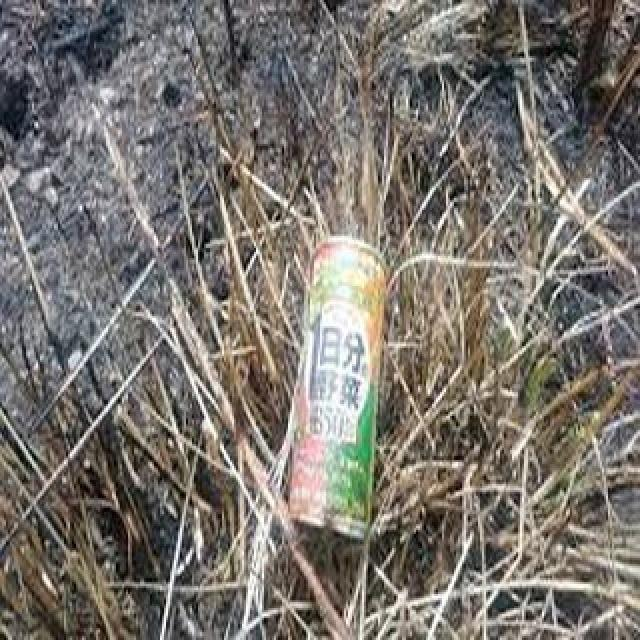recyclable: (288, 236, 388, 544)
